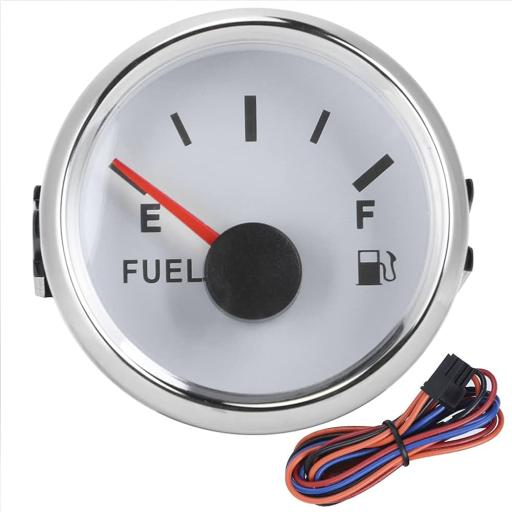empty: (136, 201, 162, 238)
fuel_icon: (354, 245, 402, 291)
full: (354, 198, 384, 233)
guage_area: (49, 11, 466, 434)
needle_center: (202, 220, 306, 325)
needle_tip: (107, 154, 136, 177)
